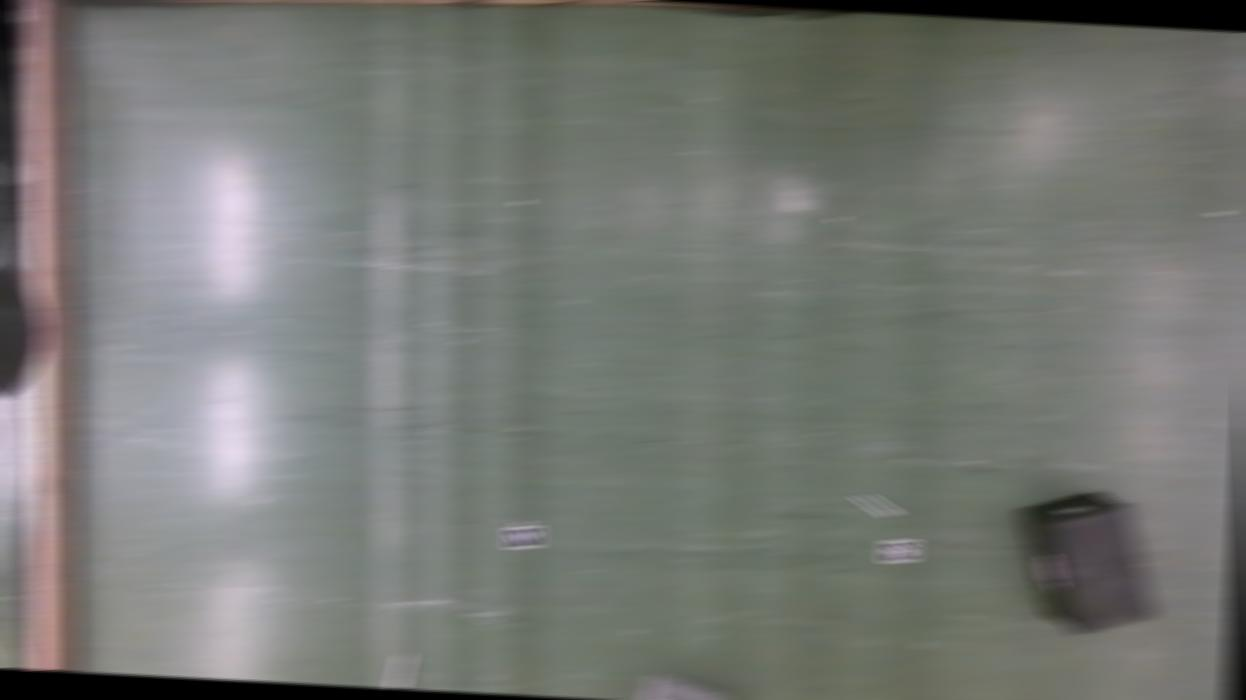probes: (856, 492, 897, 517), (390, 654, 411, 690)
rako: (1013, 486, 1164, 638), (632, 671, 736, 700)
